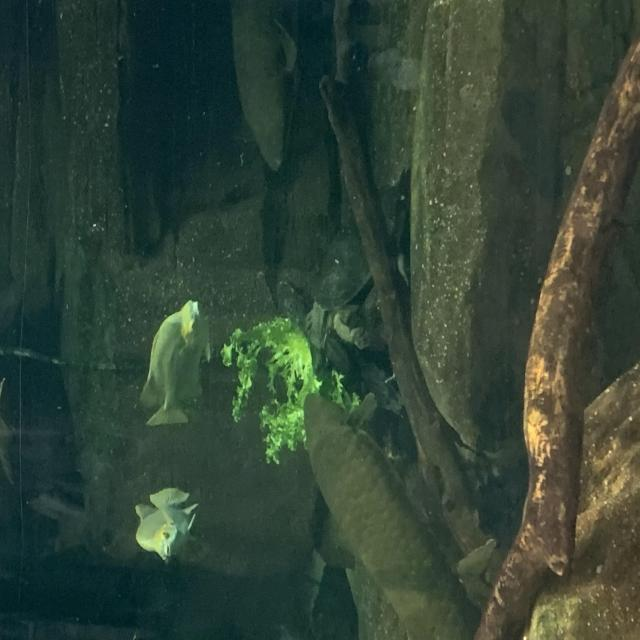fish: (138, 297, 212, 429), (133, 486, 201, 566)
